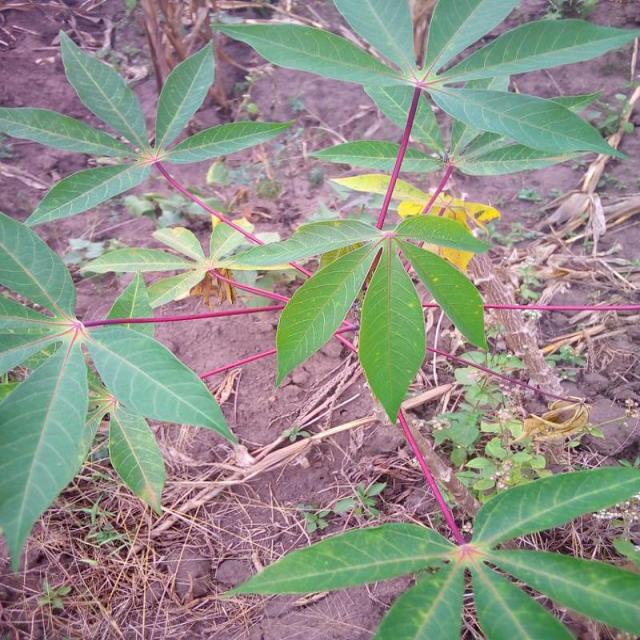cassava leaf: (0, 331, 90, 575), (83, 322, 239, 447), (217, 520, 458, 600), (274, 235, 382, 388), (470, 464, 638, 548), (357, 234, 426, 426)
